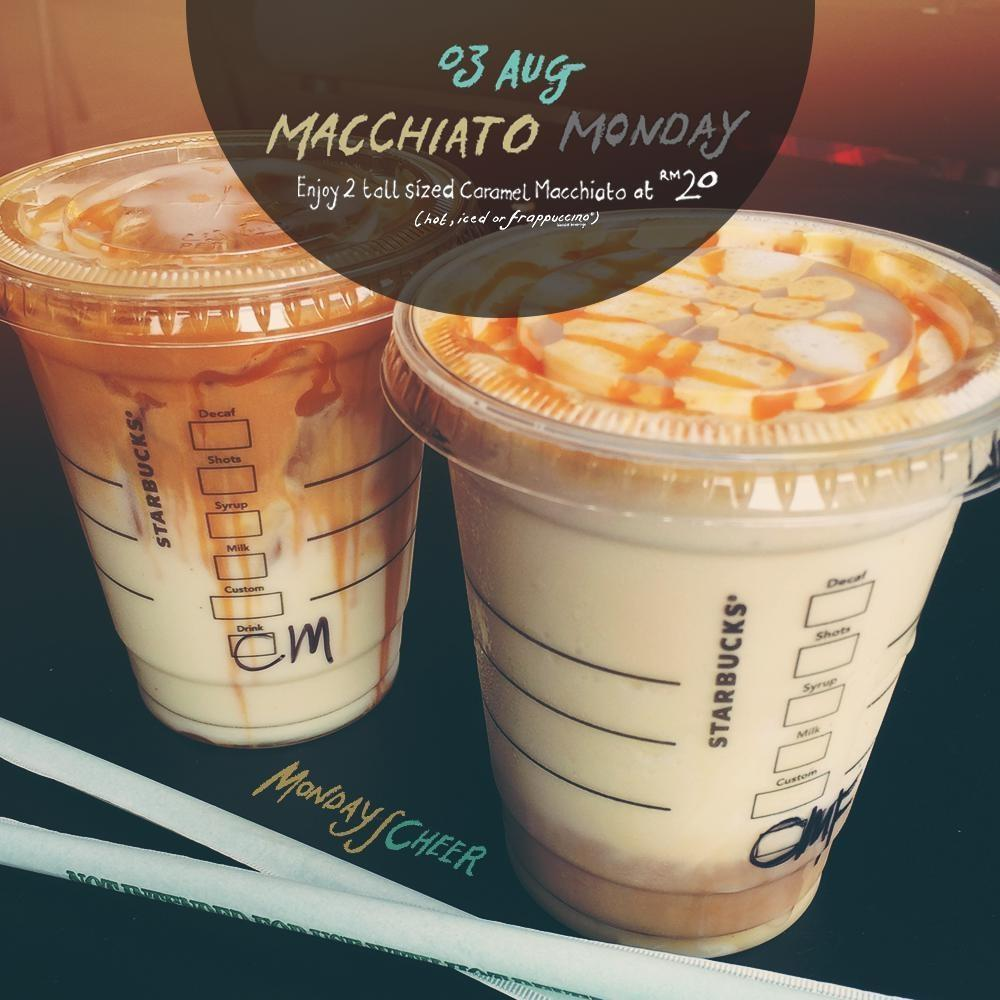cup-disposable: (375, 213, 997, 952), (1, 128, 437, 750)
